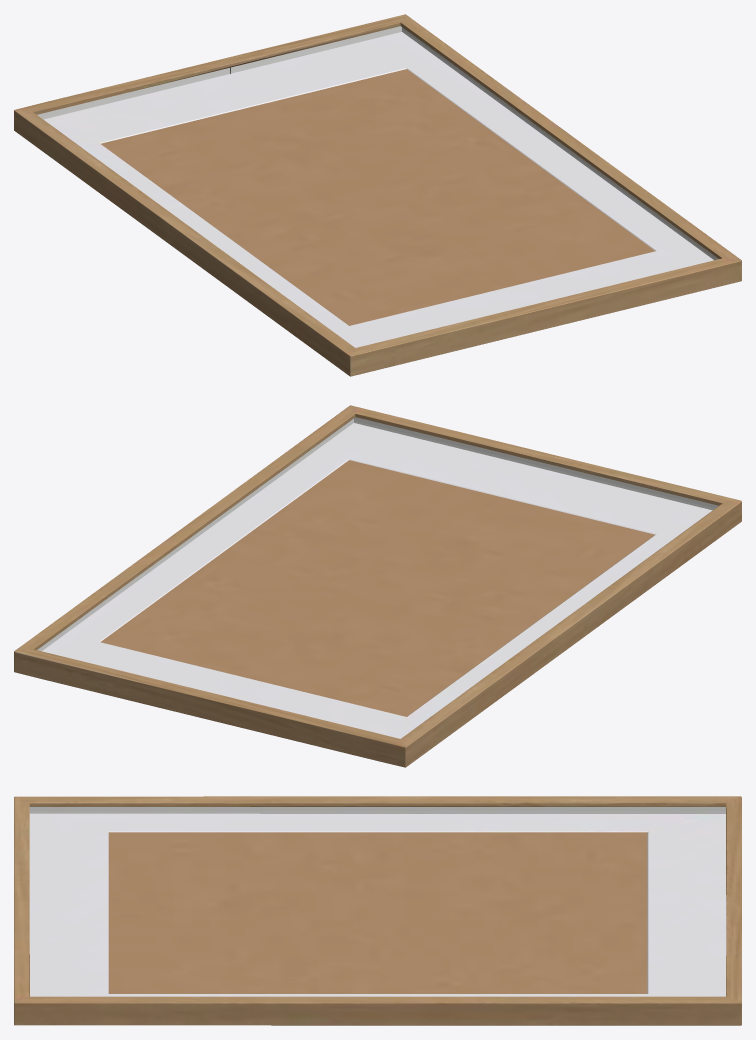
Rendered from LB-ART-01.glb.
3 renders of one model, top to bottom at view 1: azimuth 30°, elevation 25°; view 2: azimuth 150°, elevation 25°; view 3: azimuth 270°, elevation 25°, orthographic. The views are drawn at different scales.
Parts seen in each view (by area): view 1: 20566403-RÃƒâ€“DALM001; view 2: 20566403-RÃƒâ€“DALM001; view 3: 20566403-RÃƒâ€“DALM001.
Part boxes in pixels (x1,y1,x2,y2): 20566403-RÃƒâ€“DALM001: (14, 14, 741, 376); 20566403-RÃƒâ€“DALM001: (14, 405, 741, 767); 20566403-RÃƒâ€“DALM001: (14, 796, 741, 1025).
Bounding box in the file's own units: 0.627 × 0.0332 × 0.932.
Materials: 2 (1 with a texture image).
